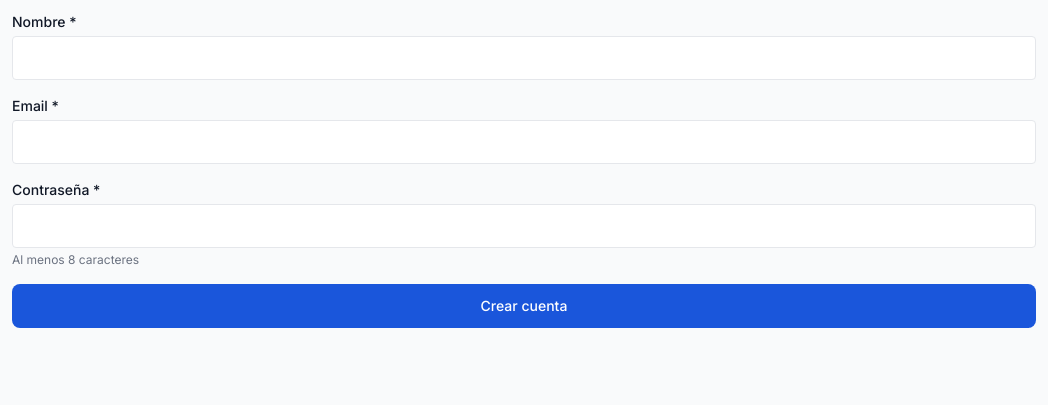
RegisterForm (T2.1) › AC-10: el 429 muestra la espera concreta y no reintenta
Type "Ana Gómez" into the field labelled "Nombre *". click: (524, 58)
box: [12, 36, 1036, 80]
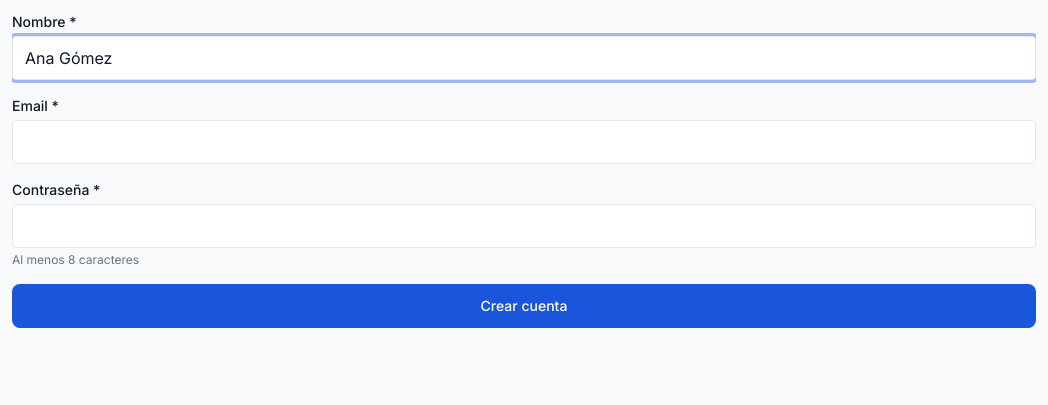
Type "ana@example.com" into the field labelled "Email *". click: (524, 142)
box: [12, 120, 1036, 164]
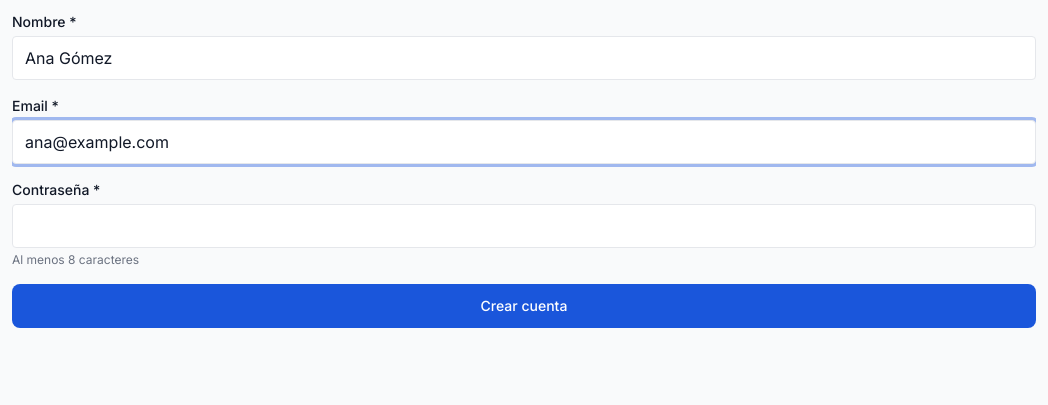
Type "Contrasena-Valida-1" into the password field labelled "Contraseña *". click: (524, 226)
box: [12, 204, 1036, 248]
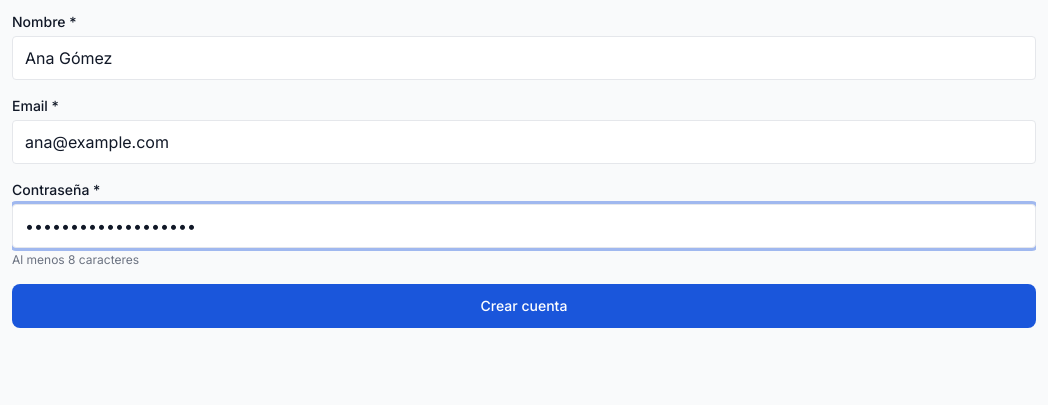
Click the button "Crear cuenta". click: (524, 306)
box: [12, 284, 1036, 328]
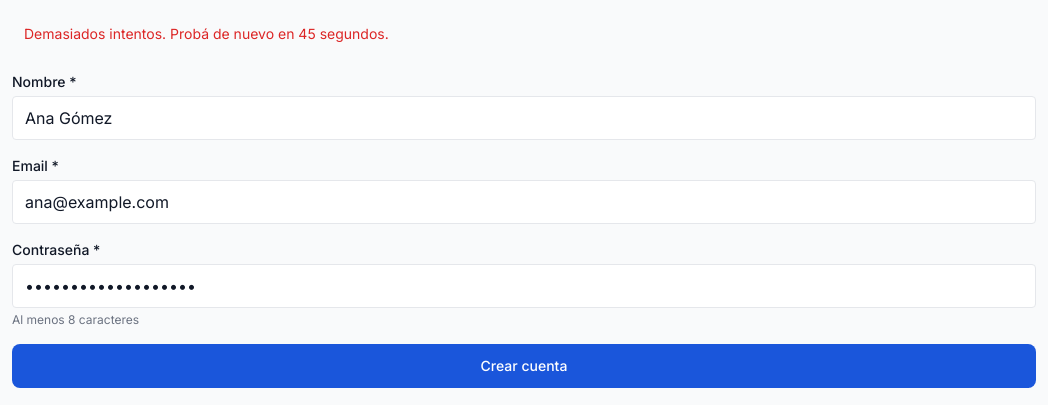
expect the message shows "45 segundos": met, box [24, 25, 389, 42]
